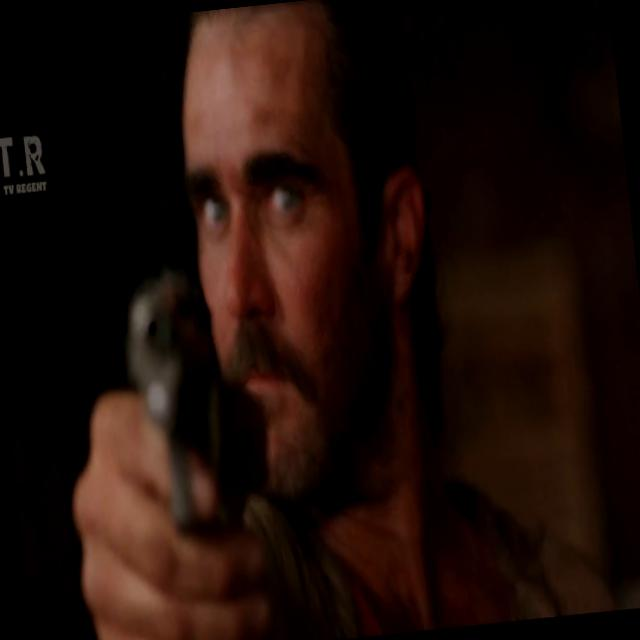handgun: (109, 251, 268, 530)
